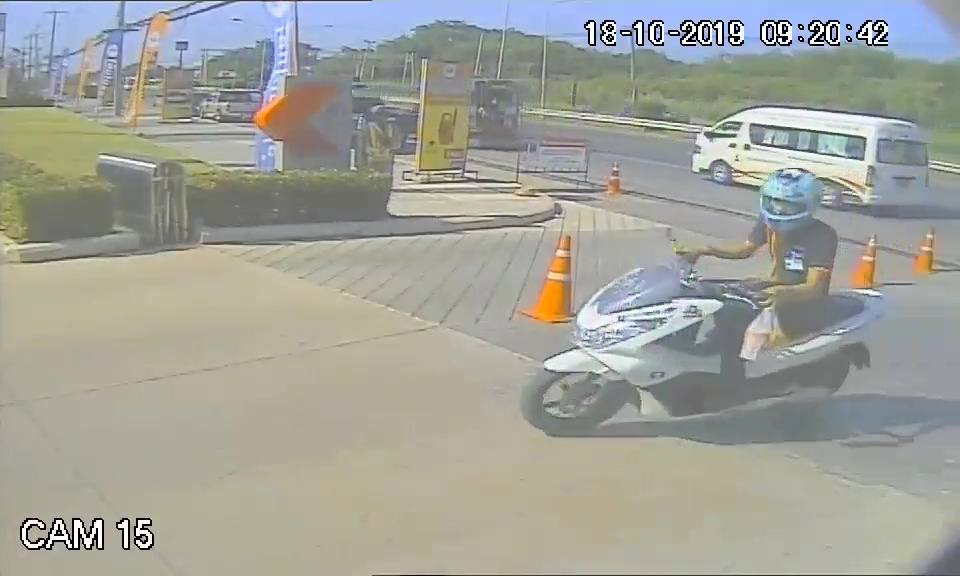motorcycle: (520, 262, 893, 437)
